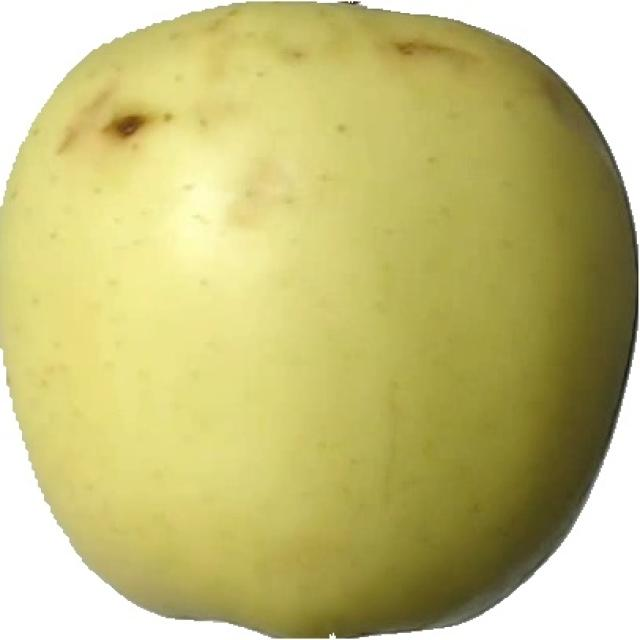Golden Elma: (1, 0, 640, 633)
